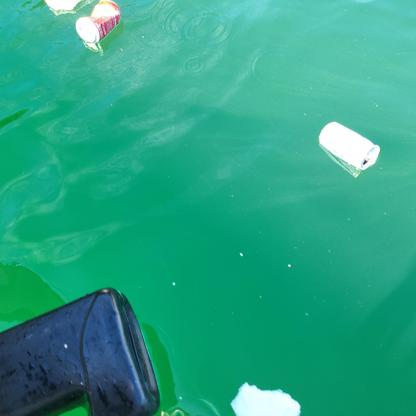can: (321, 120, 382, 172), (73, 2, 125, 42)
